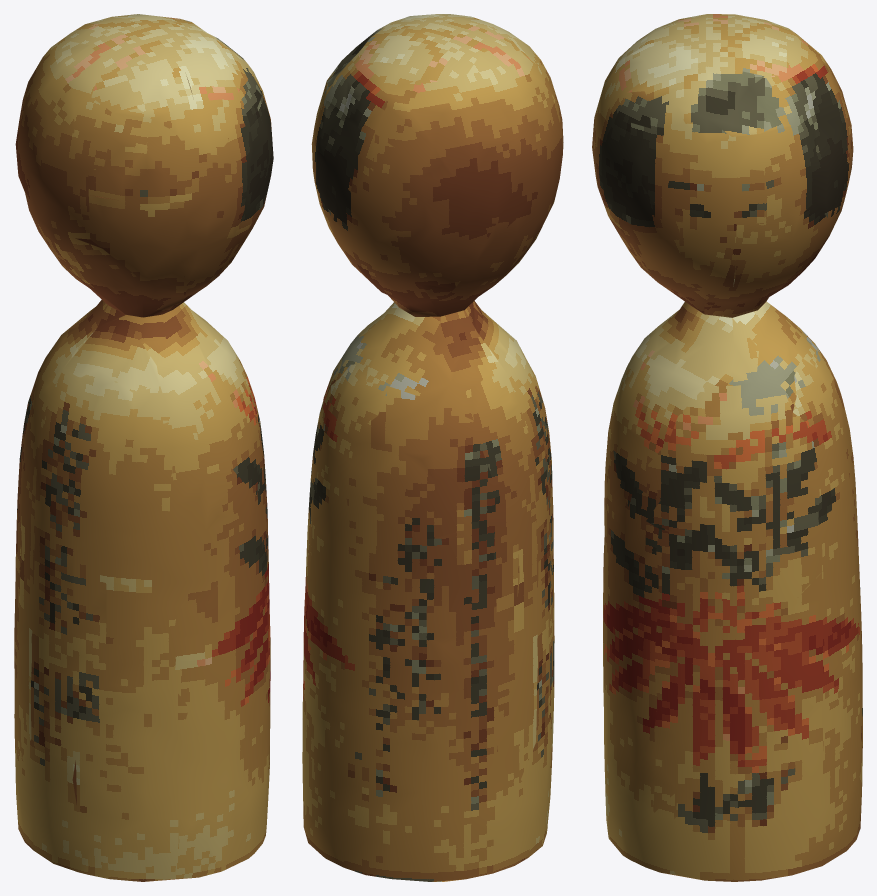
The model's file is kokeshi.glb.
3 renders of one model, left to right at view 1: azimuth 30°, elevation 25°; view 2: azimuth 150°, elevation 25°; view 3: azimuth 270°, elevation 25°, orthographic.
Visible parts, largest first — view 1: mesh; view 2: mesh; view 3: mesh.
Boxes of the visible parts, x1,y1,x2,y2 form: mesh: (14,14,273,881); mesh: (302,14,563,881); mesh: (592,14,862,881).
Bounding box in the file's own units: 0.058 × 0.2 × 0.0615.
Materials: 1 (1 with a texture image).
